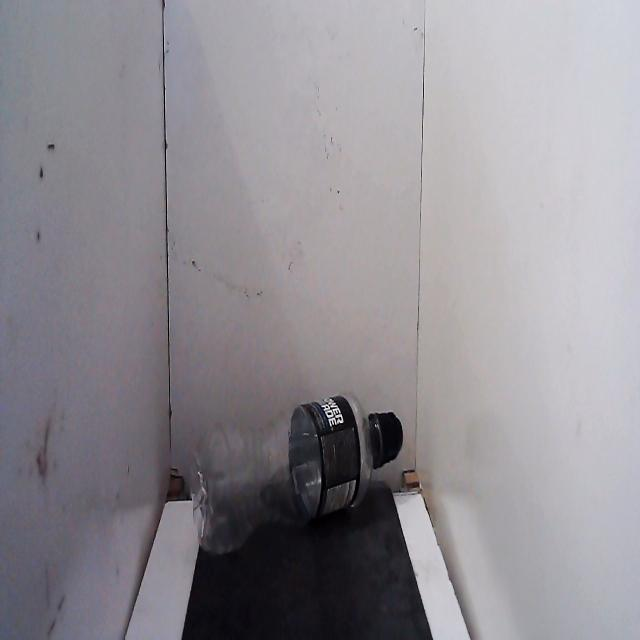plastico: (179, 378, 408, 562)
